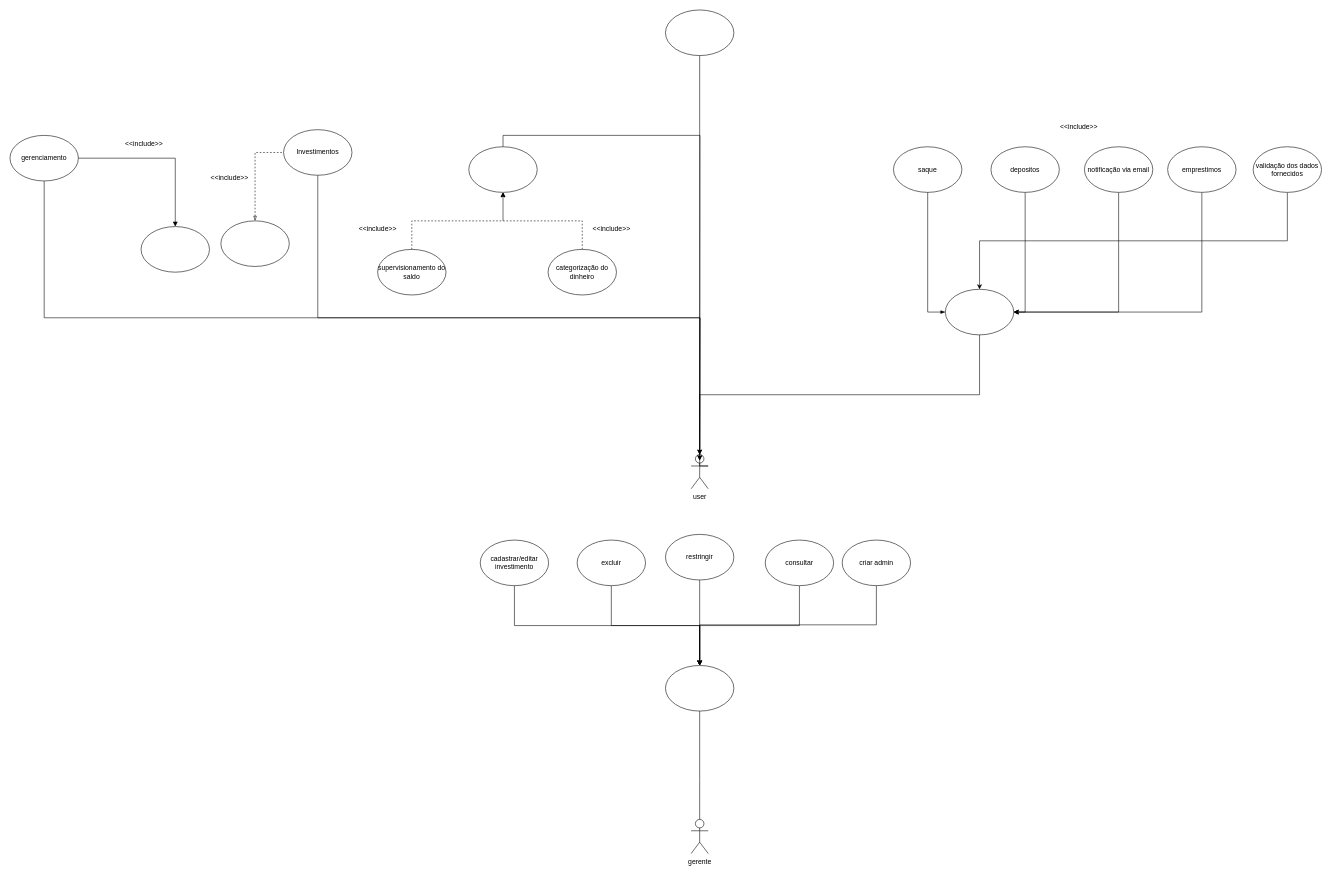
This 1332x876 diagram has some shape labels left out. Each missing label, with the centre of its shape:
"criação de contas" goes at (699,32).
"extratos" goes at (502,169).
"gerenciamento admin" goes at (699,688).
"gerenciamento de senhas" goes at (175,249).
"taxas automáticas" goes at (254,243).
"transferência" goes at (979,312).
